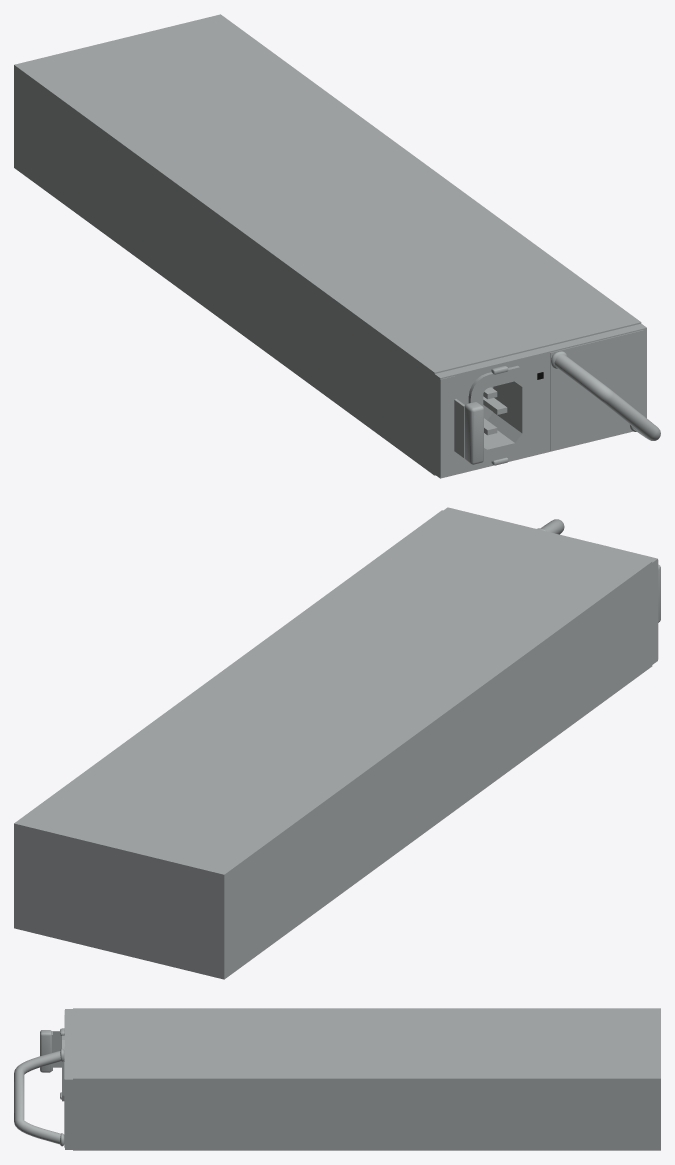
The model's file is PWR-C4-950WAC-R.far.glb.
The picture shows the model from 3 angles, top to bottom: view 1: azimuth 30°, elevation 25°; view 2: azimuth 150°, elevation 25°; view 3: azimuth 270°, elevation 25°; orthographic projection. The views are drawn at different scales.
Visible parts, largest first — view 1: Body_far; view 2: Body_far; view 3: Body_far.
Part boxes in pixels (x1=…): Body_far: x1=14, y1=14, x2=660, y2=478; Body_far: x1=14, y1=507, x2=660, y2=979; Body_far: x1=14, y1=1008, x2=660, y2=1150.
Bounding box in the file's own units: 0.084 × 0.04 × 0.3256.
2 materials, 1 textured.
